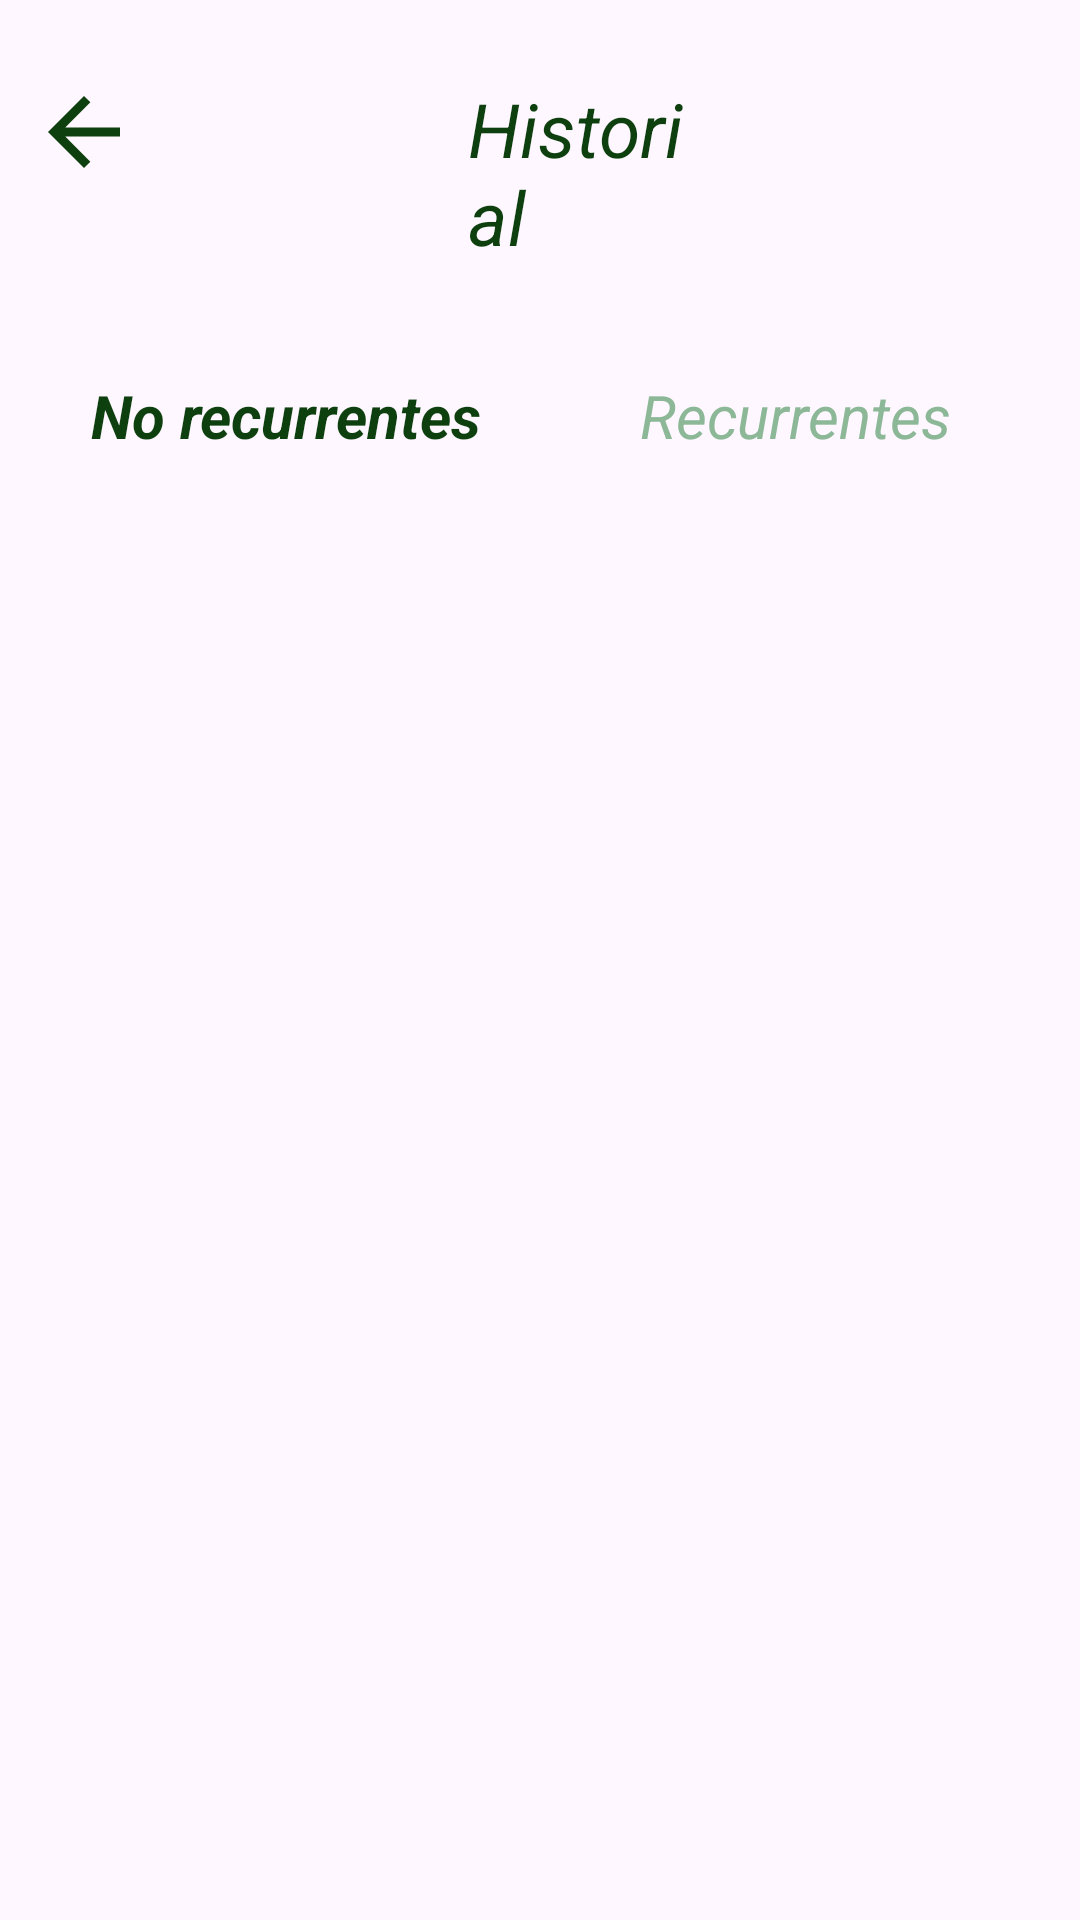

Icon click points for this 1080x1920 phone screenshot, format (x=x, y=y):
arrow back: (x=84, y=132)
